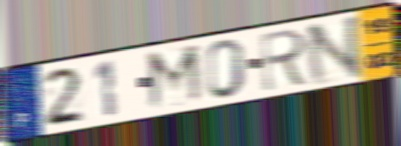0: (204, 38, 247, 100)
1: (93, 58, 120, 118)
2: (41, 66, 87, 129)
M: (145, 42, 207, 113)
N: (303, 12, 365, 89)
R: (259, 26, 311, 95)
